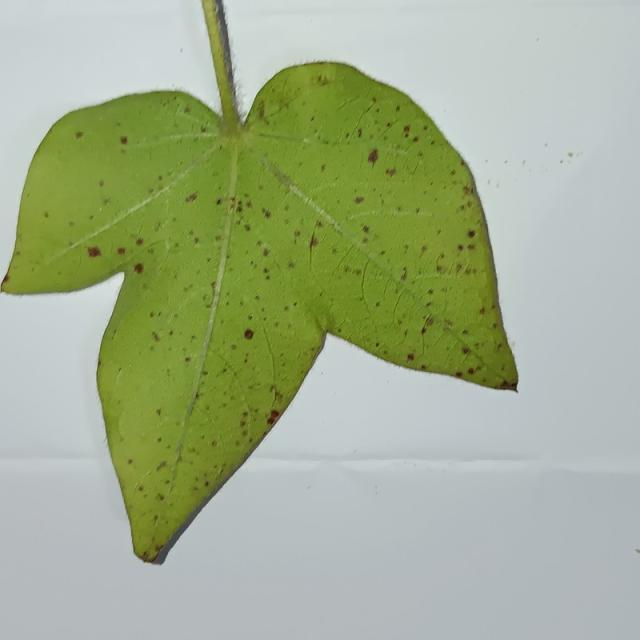Bacterial_Blight: (354, 143, 388, 168), (421, 317, 435, 340), (229, 198, 247, 214), (240, 324, 255, 339), (344, 265, 362, 277), (498, 380, 516, 391), (87, 245, 102, 258), (436, 254, 446, 273), (317, 74, 330, 86), (257, 104, 266, 120), (185, 192, 197, 203), (462, 185, 473, 197), (133, 263, 144, 274), (261, 207, 271, 218), (156, 461, 167, 471), (141, 551, 152, 561), (1, 274, 9, 287), (269, 410, 279, 420), (443, 319, 453, 329), (425, 316, 434, 326), (151, 332, 160, 342), (310, 237, 318, 248), (266, 416, 275, 425), (102, 197, 111, 206), (354, 196, 364, 204), (402, 124, 410, 134), (240, 418, 247, 429), (117, 247, 126, 255), (75, 131, 84, 139), (467, 230, 476, 238), (156, 493, 165, 501), (155, 545, 163, 554), (400, 271, 407, 281), (120, 136, 128, 144), (406, 353, 414, 361), (362, 225, 370, 233), (136, 238, 143, 246), (244, 224, 251, 232), (462, 347, 469, 355), (287, 261, 295, 268), (200, 125, 207, 133), (455, 264, 462, 272), (263, 248, 269, 257), (155, 222, 161, 231), (457, 244, 464, 251), (183, 106, 190, 113), (294, 230, 301, 237), (184, 356, 191, 363), (455, 371, 462, 378), (214, 234, 221, 241), (467, 244, 475, 250), (357, 128, 362, 137), (468, 368, 474, 375), (149, 311, 155, 318), (421, 327, 427, 334), (98, 180, 104, 187), (216, 198, 222, 205), (263, 267, 269, 274), (138, 485, 144, 492), (194, 237, 200, 244), (412, 136, 419, 142), (242, 411, 248, 418), (462, 329, 469, 335), (148, 187, 154, 194), (479, 307, 485, 314), (156, 408, 161, 416), (321, 164, 326, 172), (97, 359, 102, 367), (231, 344, 237, 350), (211, 440, 217, 446), (127, 459, 133, 465), (420, 365, 427, 370), (153, 514, 158, 521), (157, 437, 162, 443), (69, 221, 74, 227), (254, 295, 260, 300), (248, 314, 253, 320), (44, 212, 49, 218), (372, 97, 377, 103), (204, 481, 209, 487), (423, 125, 428, 131), (284, 306, 289, 311), (375, 302, 380, 307), (89, 215, 94, 220), (375, 342, 379, 347), (293, 301, 297, 306)
Cotton: (2, 0, 518, 562)
